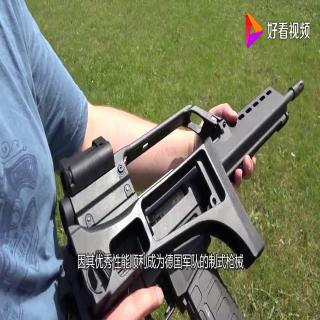gun: (56, 80, 304, 310)
